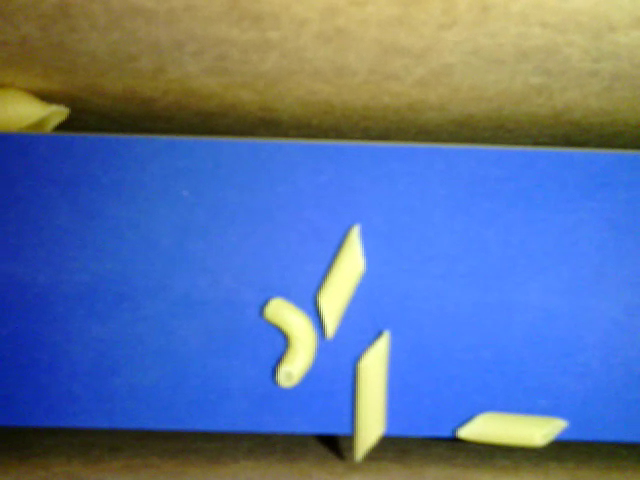elbow: (263, 295, 318, 387)
penne: (315, 221, 367, 344), (351, 327, 392, 462), (454, 408, 568, 450)
shell: (1, 86, 75, 136)
